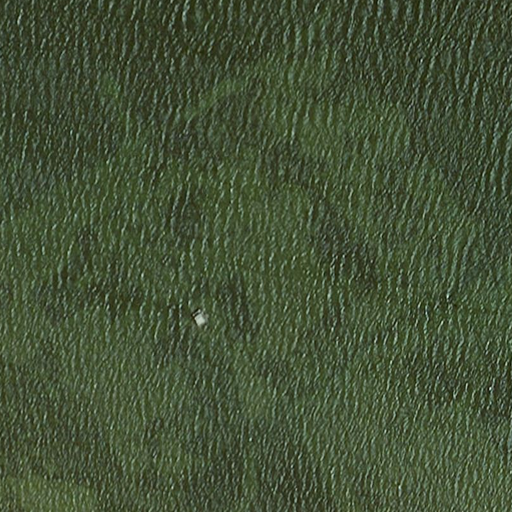ship: (189, 306, 208, 331)
